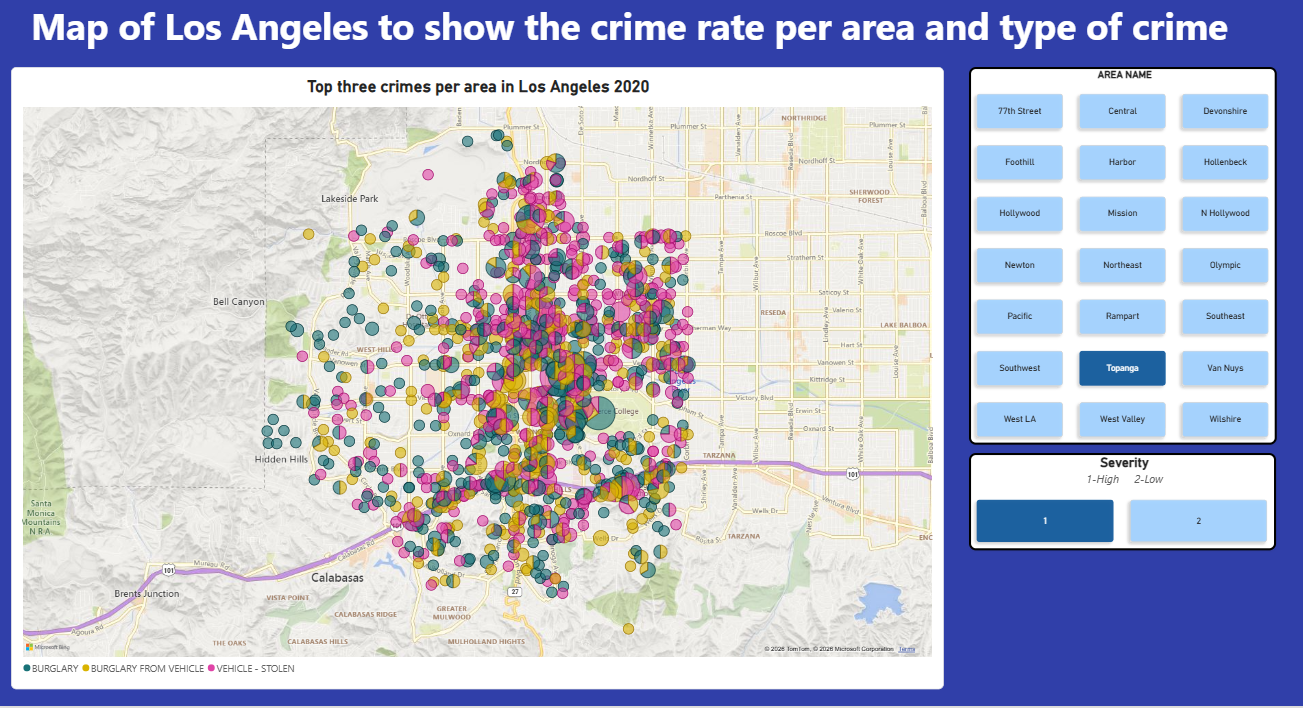

The dashboard page shown, as its layout file describes it:
{"tool":"powerbi","page":{"name":"Page 1","canvas":[1920,1080],"ordinal":0},"visuals":[{"type":"map","title":"Top three crimes per area in Los Angeles 2020","fields":{"Series":["Crimes in Los Angeles 2020.Crm Cd Desc"],"Size":["Sum(Crimes in Los Angeles 2020.DR_NO)"],"X":["Crimes in Los Angeles 2020.LON"],"Y":["Crimes in Los Angeles 2020.LAT"]},"box":[20.7,146.7,1361.5,908.1],"z":0},{"type":"actionButton","box":[0,0,100,40],"z":1000},{"type":"advancedSlicerVisual","fields":{"Values":["Crimes in Los Angeles 2020.AREA NAME"]},"box":[1417.8,146.7,448.9,551.1],"z":2000},{"type":"advancedSlicerVisual","title":"Severity","fields":{"Values":["Crimes in Los Angeles 2020.Part 1-2"]},"box":[1418.1,710.5,447.9,141.5],"z":3000},{"type":"textbox","box":[50,50,1797,84.4],"z":5000}]}

Visuals, with their boxes in screenshot pixels (x1, y1, x2, y2):
"Top three crimes per area in Los Angeles 2020" map: rect(27, 71, 942, 681)
advancedSlicerVisual - Crimes in Los Angeles 2020.AREA NAME: rect(965, 71, 1267, 441)
"Severity" advancedSlicerVisual: rect(966, 450, 1266, 545)
textbox: rect(47, 6, 1254, 63)
